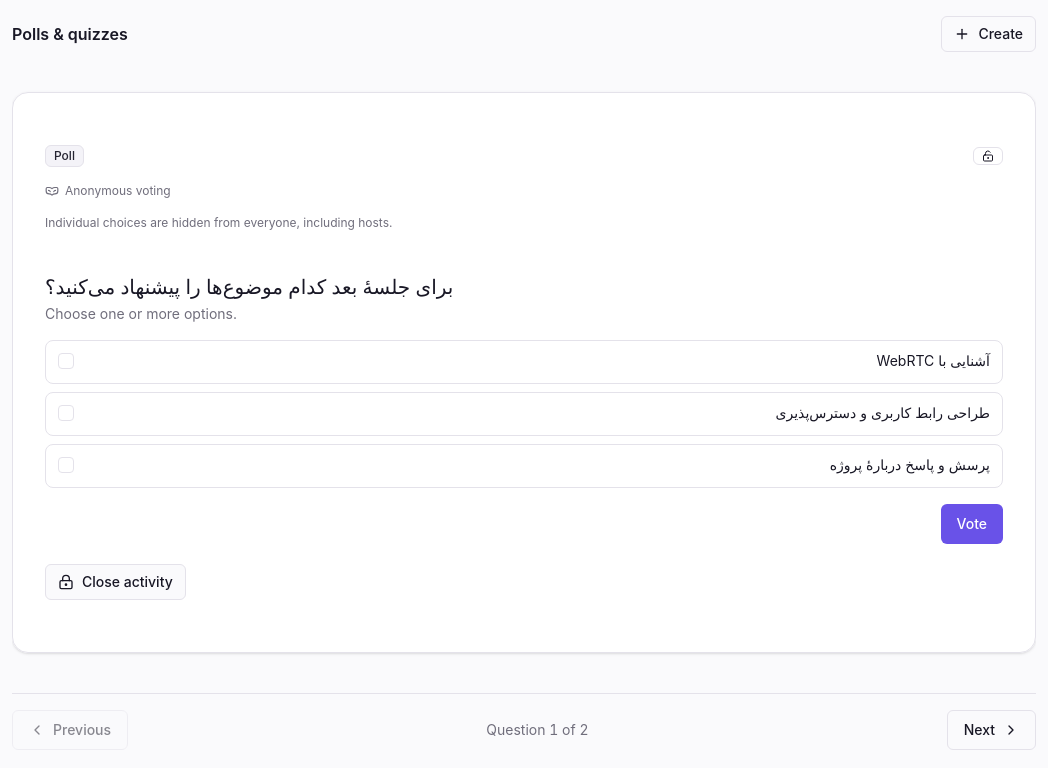
question slideshow › opens an embedded composer and returns to the unfinished question on cancel
This screenshot has width=1048, height=768.
What coordinates should you click on to do the following:
click the checkbox labelled "آشنایی با WebRTC"
I would click on:
 (905, 360)
Its box is [45,340,1003,384].
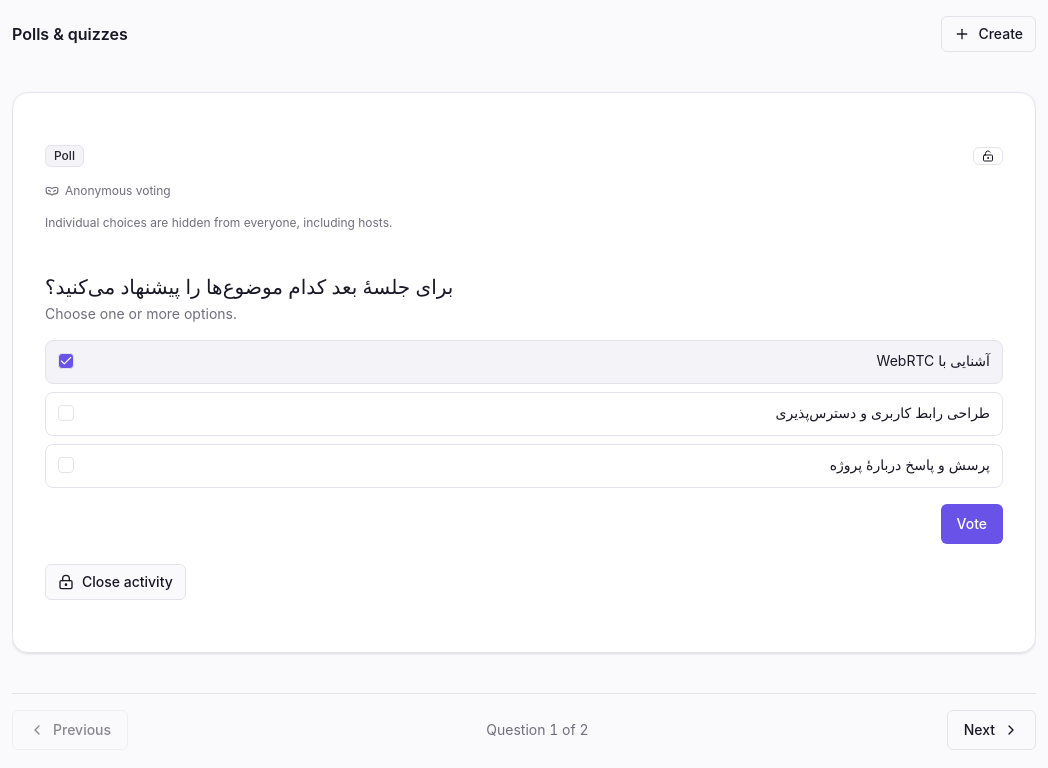
What coordinates should you click on to do the following:
click the button "Create"
I would click on:
 (989, 34)
Its box is [941,16,1036,52].
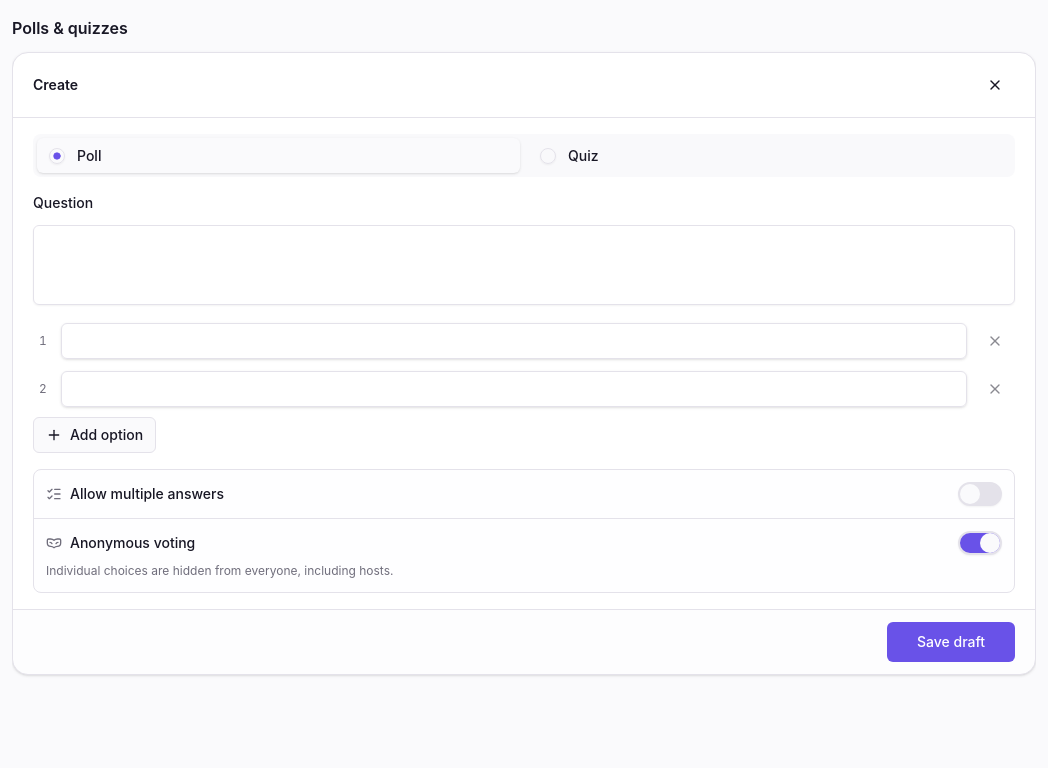
Check: the text box labelled "Question" is shown, box [33,224,1015,304]
Check: the button "Next" is gone
Check: the button "Vote" is gone
What coordinates should you click on to do the following:
click the button named "Cancel"
I would click on:
 (995, 85)
Its box is [975,65,1015,105].
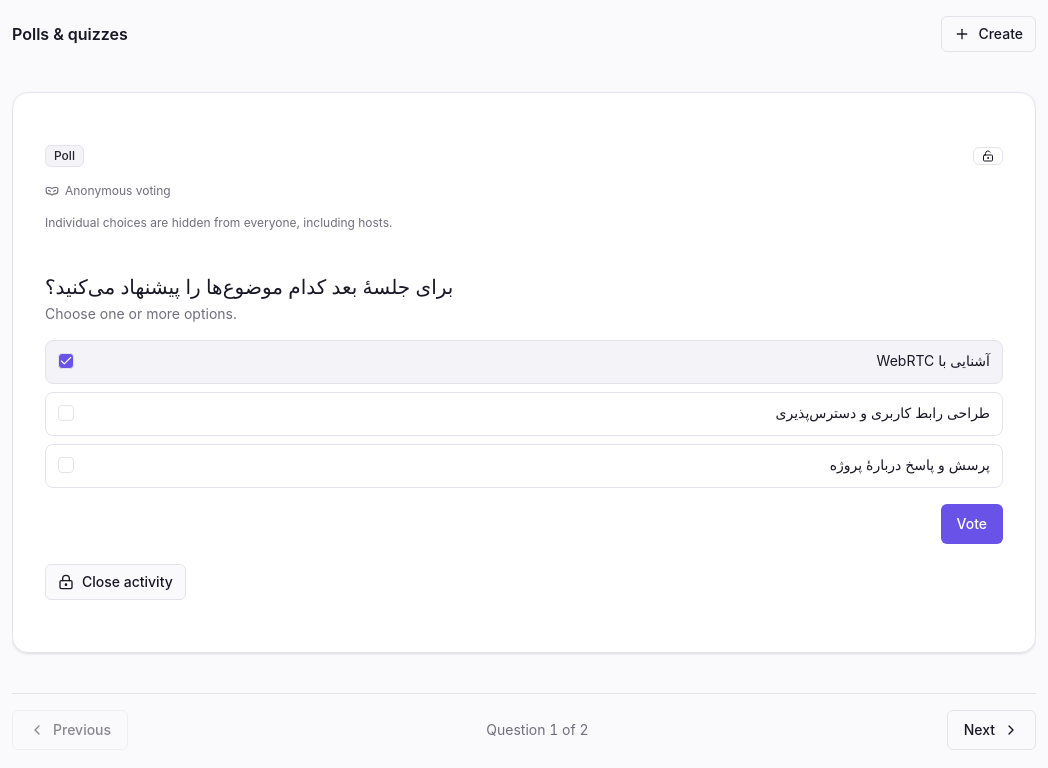
Check: the checkbox labelled "آشنایی با WebRTC" is checked, box [45,340,1003,384]
Check: the message reads "Question 1 of 2", box [486,720,588,738]
